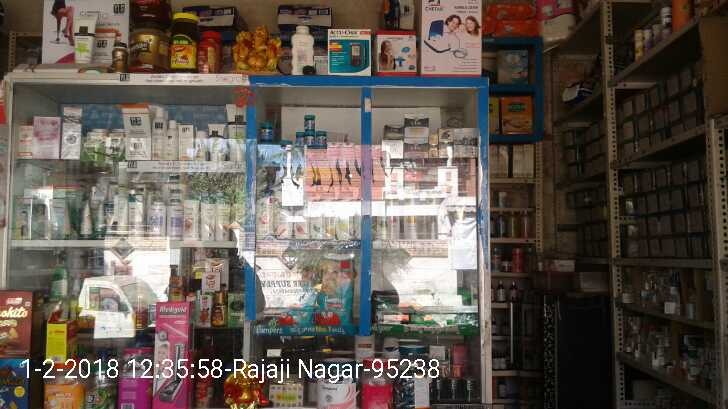beauty: (324, 201, 359, 240), (252, 190, 274, 240), (450, 129, 481, 162), (273, 195, 292, 238), (406, 112, 432, 142), (293, 199, 309, 238), (435, 129, 454, 161), (310, 200, 324, 239), (378, 125, 406, 140)
pharmacy: (317, 253, 354, 330), (255, 116, 275, 143), (317, 128, 331, 160), (299, 107, 317, 131), (293, 129, 305, 146), (305, 129, 315, 149)
